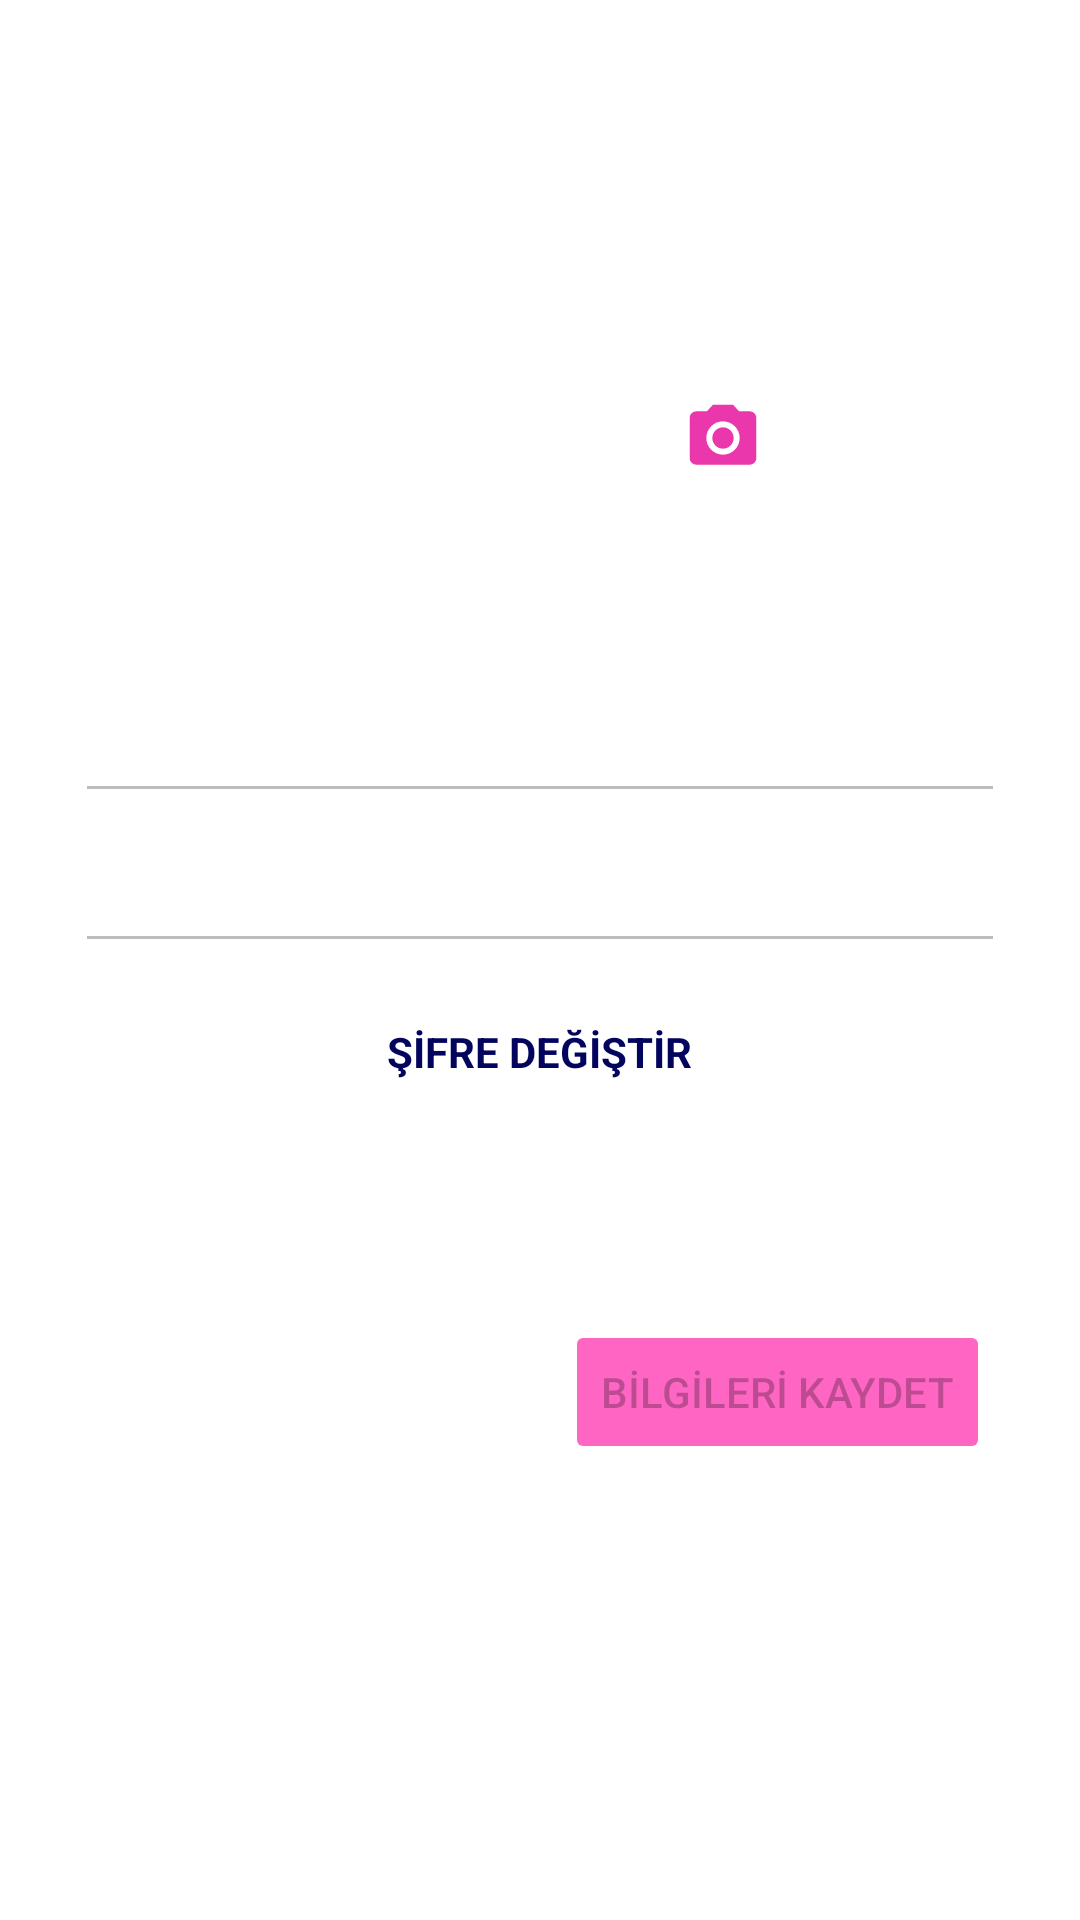

Screen size 1080 x 1920. Icon name, then its box in pixels as (x1, y1, x2, y2):
imgdegistir: (689, 404, 757, 465)
